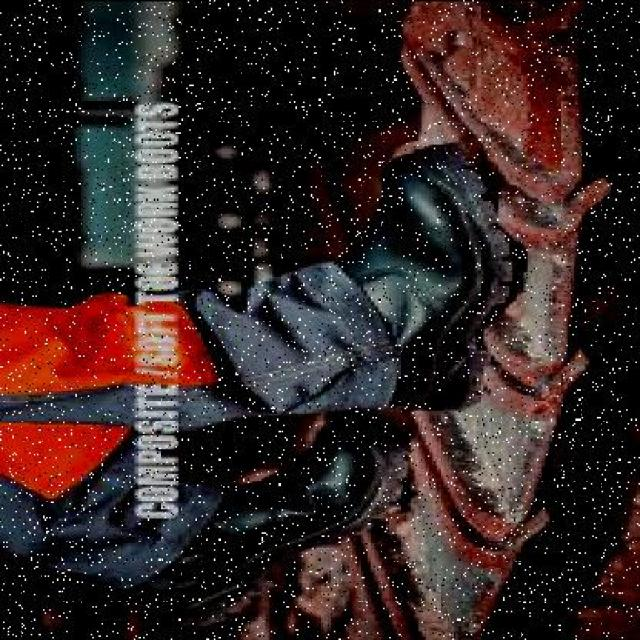shoes: (125, 416, 410, 627), (338, 155, 524, 403)
